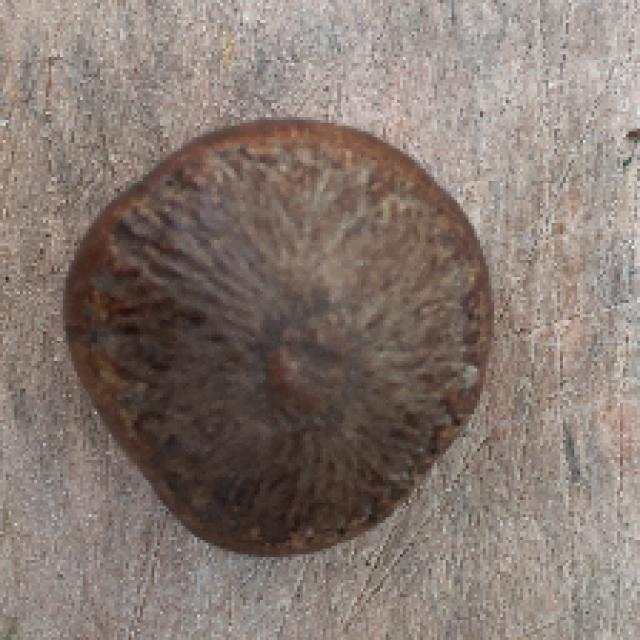qualityHazelnut: (64, 119, 489, 568)
